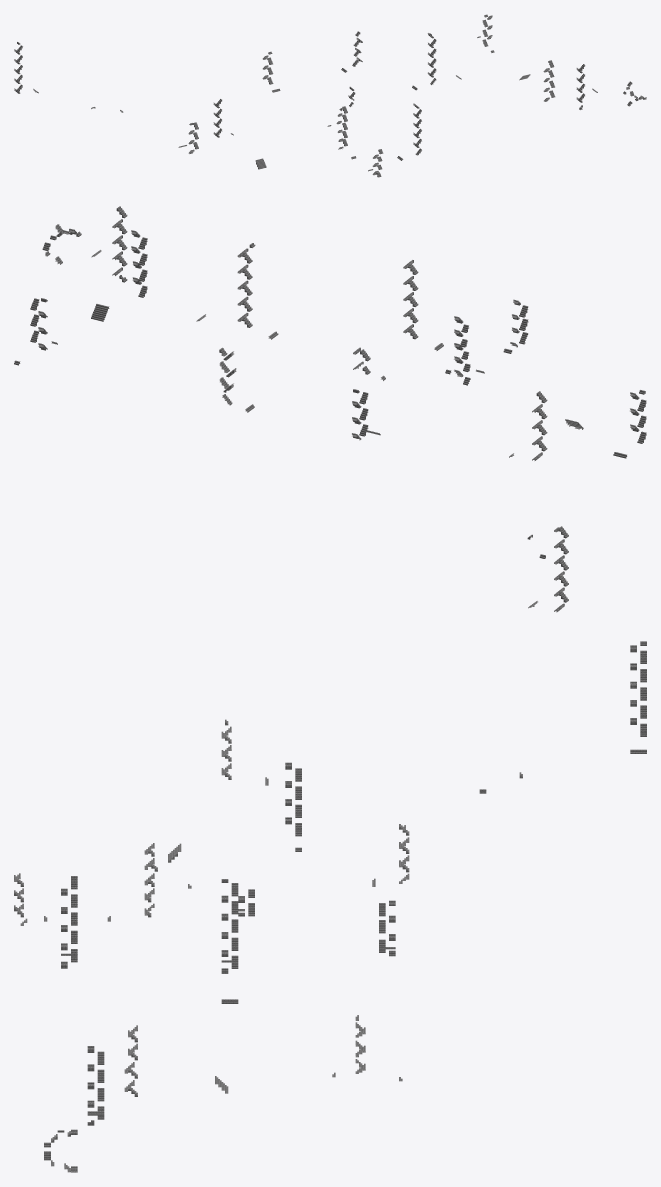
The model's file is Stone_Brick_Stairs.fbx.
The picture shows the model from 3 angles, top to bottom: view 1: azimuth 30°, elevation 25°; view 2: azimuth 150°, elevation 25°; view 3: azimuth 270°, elevation 25°; orthographic projection. The views are drawn at different scales.
Visible parts, largest first — view 1: Stone_Brick_Stairs; view 2: Stone_Brick_Stairs; view 3: Stone_Brick_Stairs.
Part boxes in pixels (x1,y1,x2,y2): Stone_Brick_Stairs: (14, 14, 646, 177); Stone_Brick_Stairs: (14, 206, 646, 612); Stone_Brick_Stairs: (14, 641, 646, 1172).
Size of the model in its own units: 30200 by 4900 by 18900.
1 material, 1 textured.
